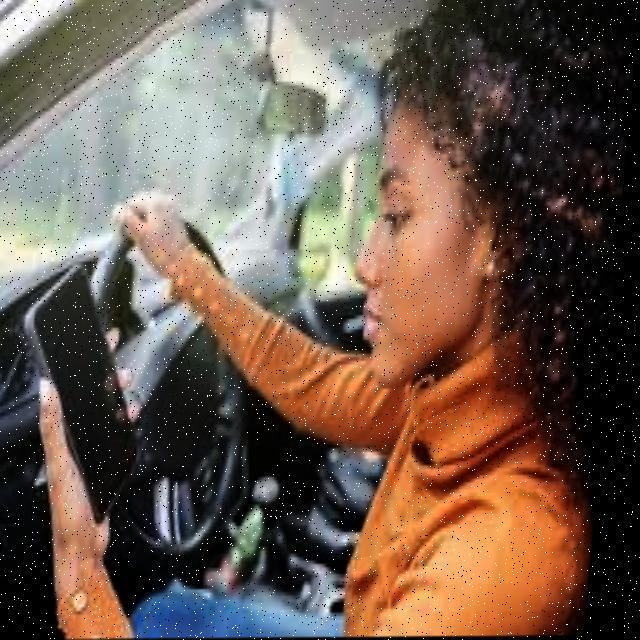noSeatbelt: (290, 310, 618, 638)
